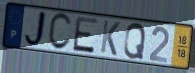2: (148, 25, 171, 65)
C: (47, 12, 73, 52)
E: (71, 15, 99, 55)
J: (23, 9, 48, 49)
K: (99, 19, 121, 58)
Q: (123, 22, 148, 61)
